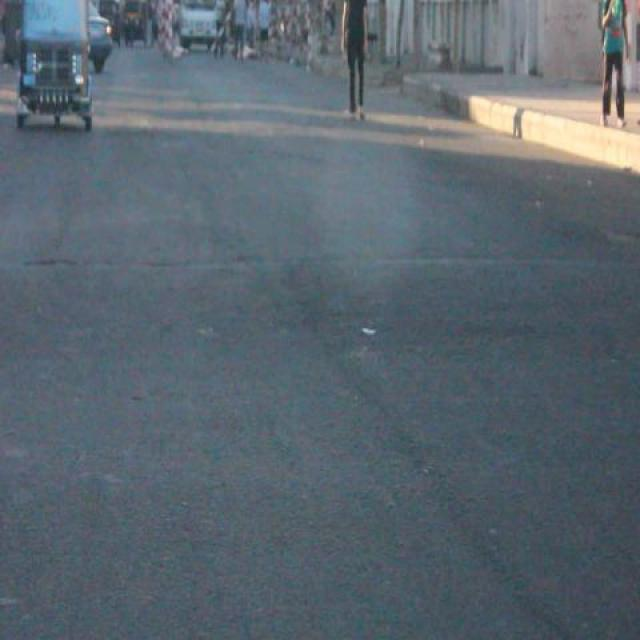Unmarked Bump: (0, 246, 640, 355)
